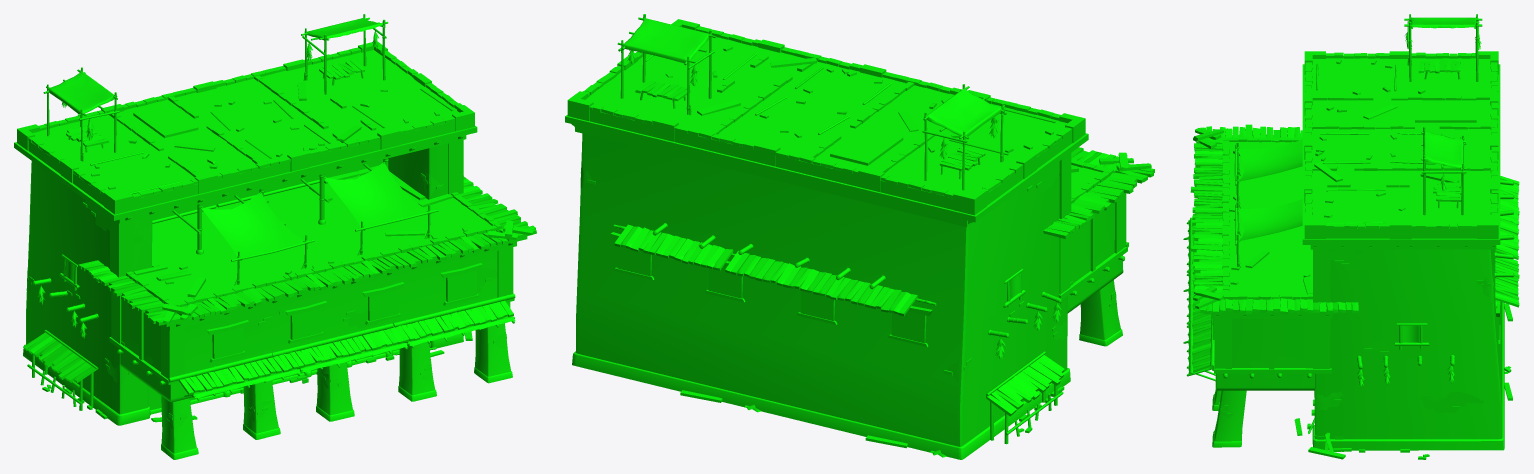
The model's file is jz_xb玉门关建筑002_003_hd.glb.
The picture shows the model from 3 angles, left to right: view 1: azimuth 30°, elevation 25°; view 2: azimuth 150°, elevation 25°; view 3: azimuth 270°, elevation 25°; orthographic projection. The views are drawn at different scales.
Bounding box in the file's own units: 3206 × 2251 × 2415.
